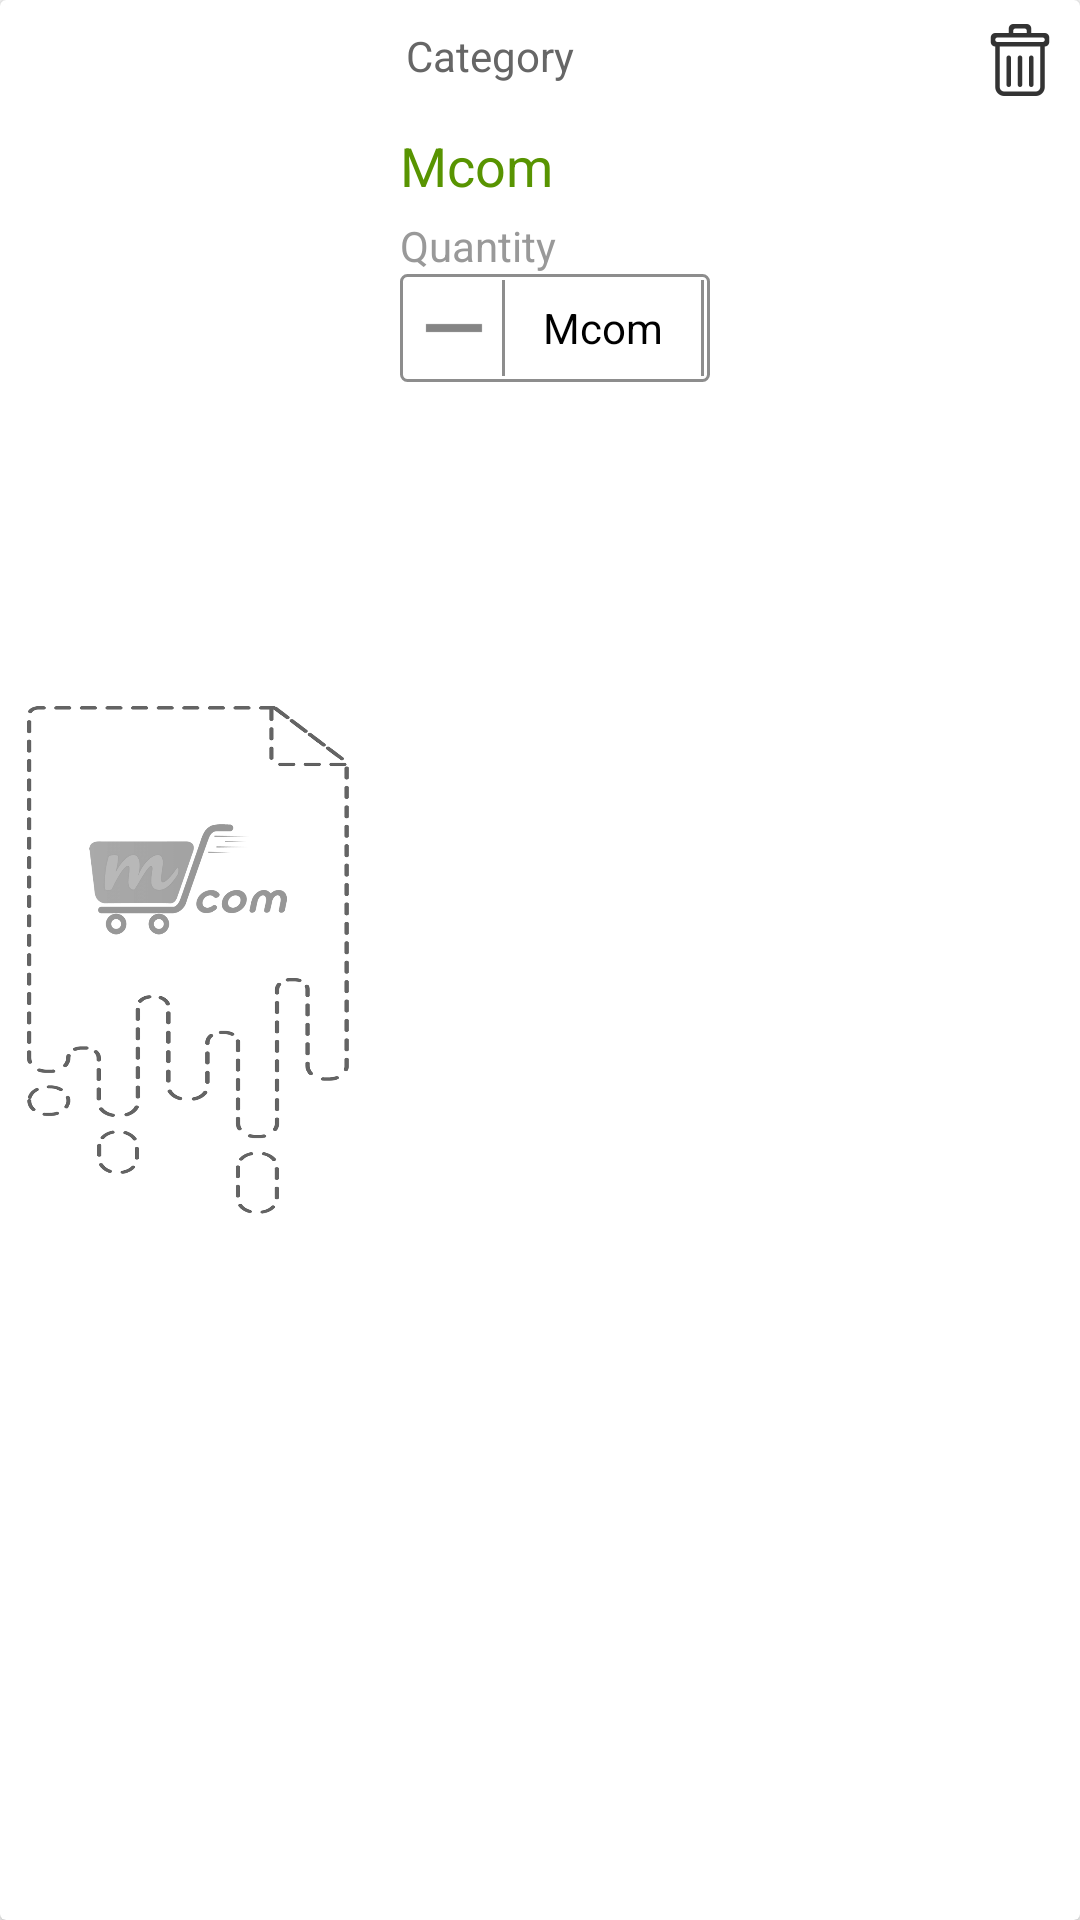

Icon click points for this 1080 x 1920 phone screenshot, format point (x, y):
cart delete: point (1020, 60)
